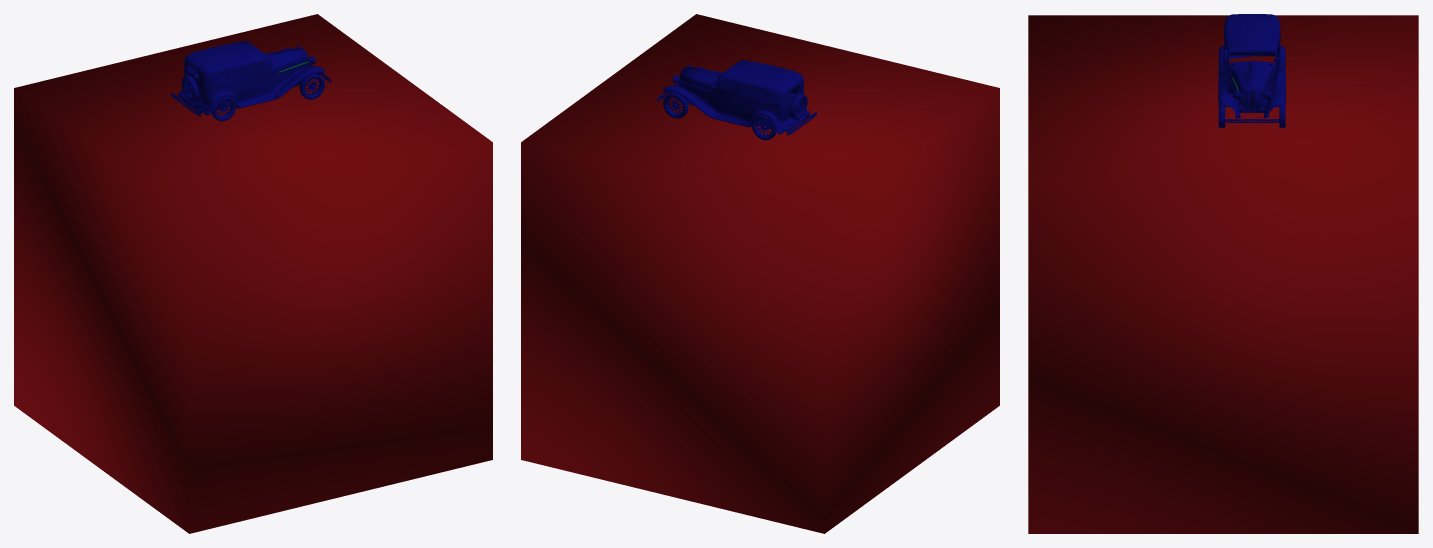
The model's file is dodgeColorTest.obj.
The picture shows the model from 3 angles, left to right: view 1: azimuth 30°, elevation 25°; view 2: azimuth 150°, elevation 25°; view 3: azimuth 270°, elevation 25°; orthographic projection. The views are drawn at different scales.
Bounding box in the file's own units: 0.4563 × 0.5347 × 0.4563.
